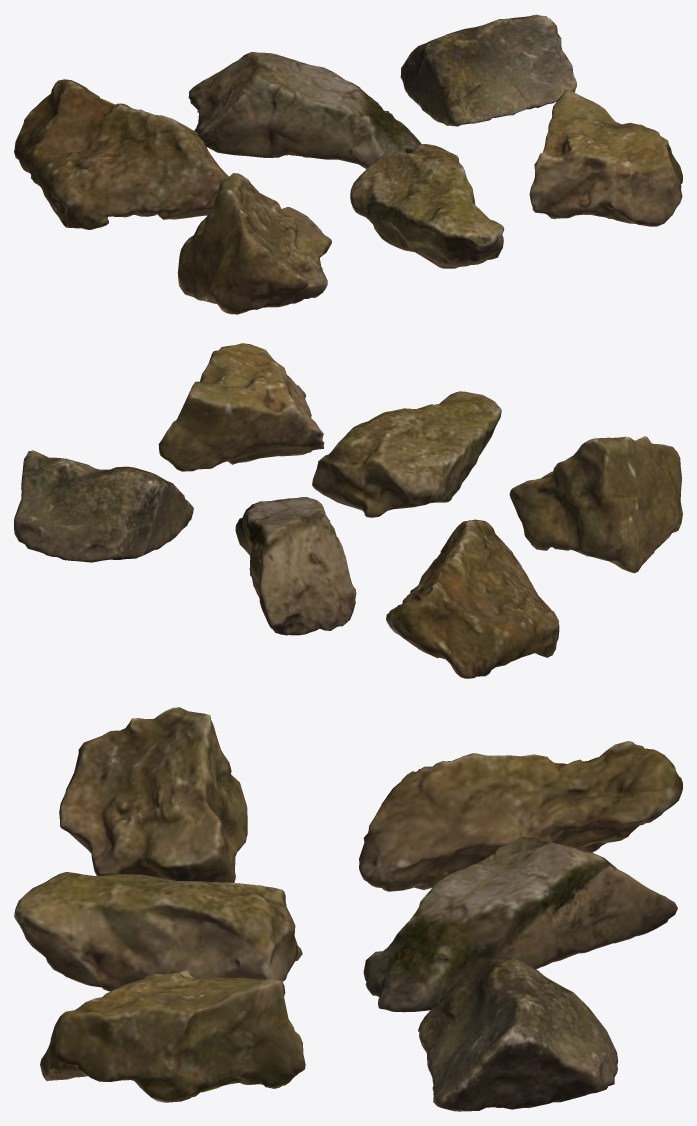
File: mossy-rocks.glb
3 renders of one model, top to bottom at view 1: azimuth 30°, elevation 25°; view 2: azimuth 150°, elevation 25°; view 3: azimuth 270°, elevation 25°, orthographic. The views are drawn at different scales.
Size of the model in its own units: 8 by 1.76 by 6.94.
1 material, 1 textured.
